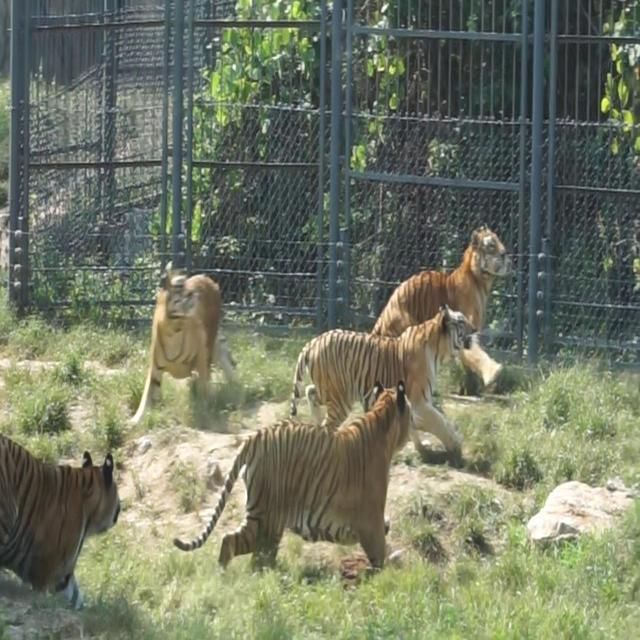tiger: (172, 378, 412, 574), (288, 303, 477, 467), (370, 224, 511, 397), (0, 426, 120, 611), (124, 266, 238, 425)
